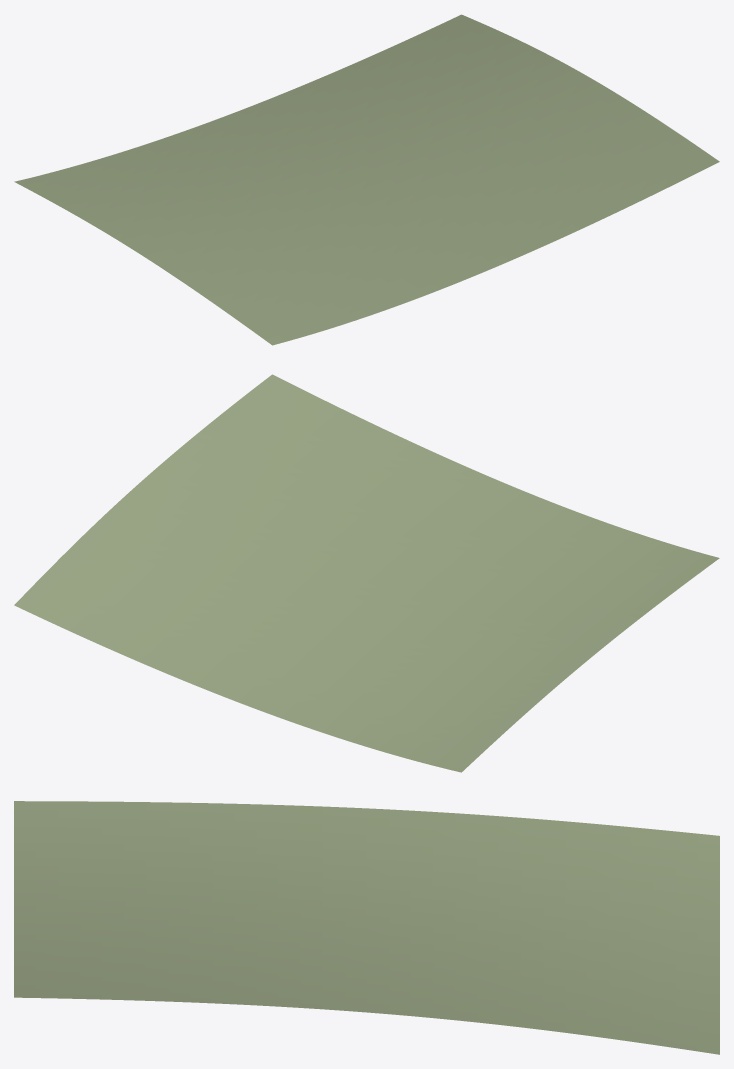
File: desert-22-6.glb
3 renders of one model, top to bottom at view 1: azimuth 30°, elevation 25°; view 2: azimuth 150°, elevation 25°; view 3: azimuth 270°, elevation 25°, orthographic. The views are drawn at different scales.
Visible parts, largest first — view 1: desert-22-6; view 2: desert-22-6; view 3: desert-22-6.
Part boxes in pixels (bbox=[...]): desert-22-6: bbox=[14, 14, 719, 345]; desert-22-6: bbox=[14, 374, 719, 772]; desert-22-6: bbox=[14, 801, 719, 1054].
Size of the model in its own units: 512 by 109 by 512.
